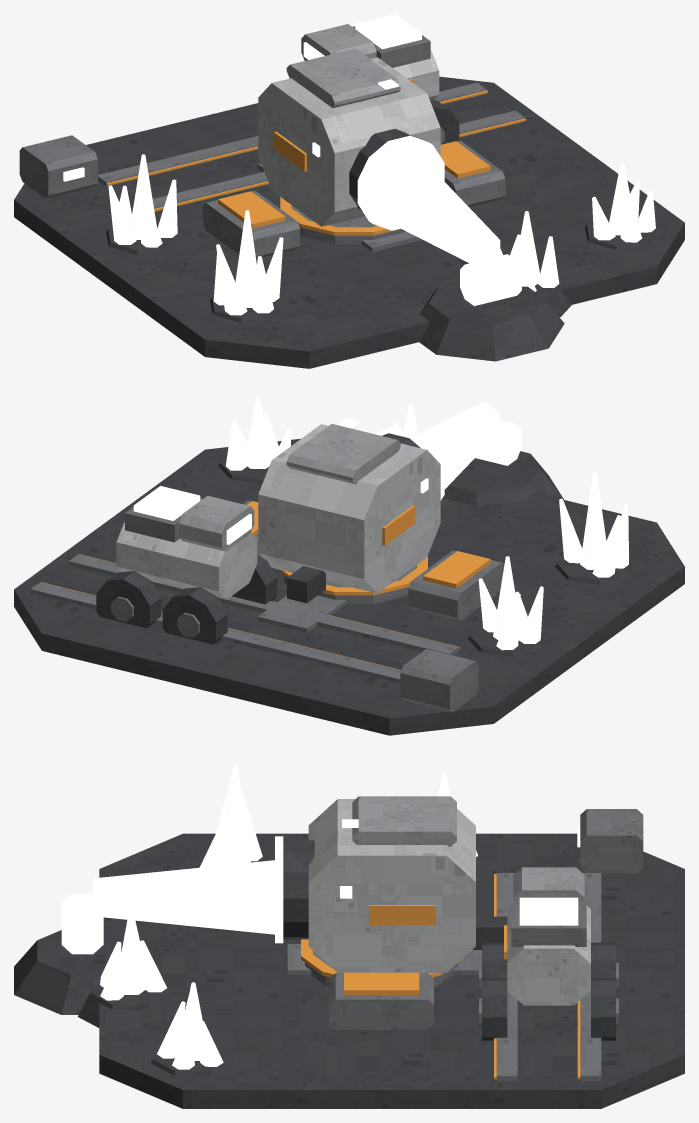
File: rig_laser_lod0.glb
The picture shows the model from 3 angles, top to bottom: view 1: azimuth 30°, elevation 25°; view 2: azimuth 150°, elevation 25°; view 3: azimuth 270°, elevation 25°; orthographic projection. The views are drawn at different scales.
Visible parts, largest first — view 1: rig_laser_base_body, rig_laser_emitter_body, rig_laser_base_glow, rig_laser_beam_glow, rig_laser_base_trim, rig_laser_cart_body, rig_laser_emitter_glow, rig_laser_cart_glow, rig_laser_emitter_trim; view 2: rig_laser_base_body, rig_laser_emitter_body, rig_laser_cart_body, rig_laser_base_glow, rig_laser_beam_glow, rig_laser_base_trim, rig_laser_cart_glow, rig_laser_emitter_glow, rig_laser_emitter_trim; view 3: rig_laser_base_body, rig_laser_emitter_body, rig_laser_cart_body, rig_laser_beam_glow, rig_laser_base_glow, rig_laser_base_trim, rig_laser_cart_glow, rig_laser_emitter_trim, rig_laser_emitter_glow.
Part boxes in pixels (box(x1,y1,x2,y2)): rig_laser_base_body: box(14, 76, 684, 368); rig_laser_emitter_body: box(258, 48, 440, 226); rig_laser_base_glow: box(63, 154, 655, 315); rig_laser_beam_glow: box(374, 157, 521, 305); rig_laser_base_trim: box(106, 90, 526, 235); rig_laser_cart_body: box(301, 24, 459, 144); rig_laser_emitter_glow: box(312, 79, 444, 230); rig_laser_cart_glow: box(303, 14, 421, 59); rig_laser_emitter_trim: box(274, 131, 306, 171); rig_laser_base_body: box(14, 438, 684, 735); rig_laser_emitter_body: box(258, 424, 440, 603); rig_laser_cart_body: box(96, 495, 277, 644); rig_laser_base_glow: box(225, 397, 628, 650); rig_laser_beam_glow: box(417, 402, 521, 489); rig_laser_base_trim: box(41, 501, 490, 669); rig_laser_cart_glow: box(133, 486, 251, 544); rig_laser_emitter_glow: box(338, 418, 444, 500); rig_laser_emitter_trim: box(382, 505, 415, 545); rig_laser_base_body: box(14, 809, 684, 1108); rig_laser_emitter_body: box(283, 796, 507, 972); rig_laser_cart_body: box(479, 867, 618, 1040); rig_laser_beam_glow: box(61, 860, 274, 954); rig_laser_base_glow: box(100, 764, 580, 1069); rig_laser_base_trim: box(301, 874, 580, 1079); rig_laser_cart_glow: box(519, 897, 578, 925); rig_laser_emitter_trim: box(369, 905, 435, 924); rig_laser_emitter_glow: box(275, 819, 358, 943).
Bounding box in the file's own units: 2.9 × 0.89 × 3.21.
Materials: 3 (1 with a texture image).
